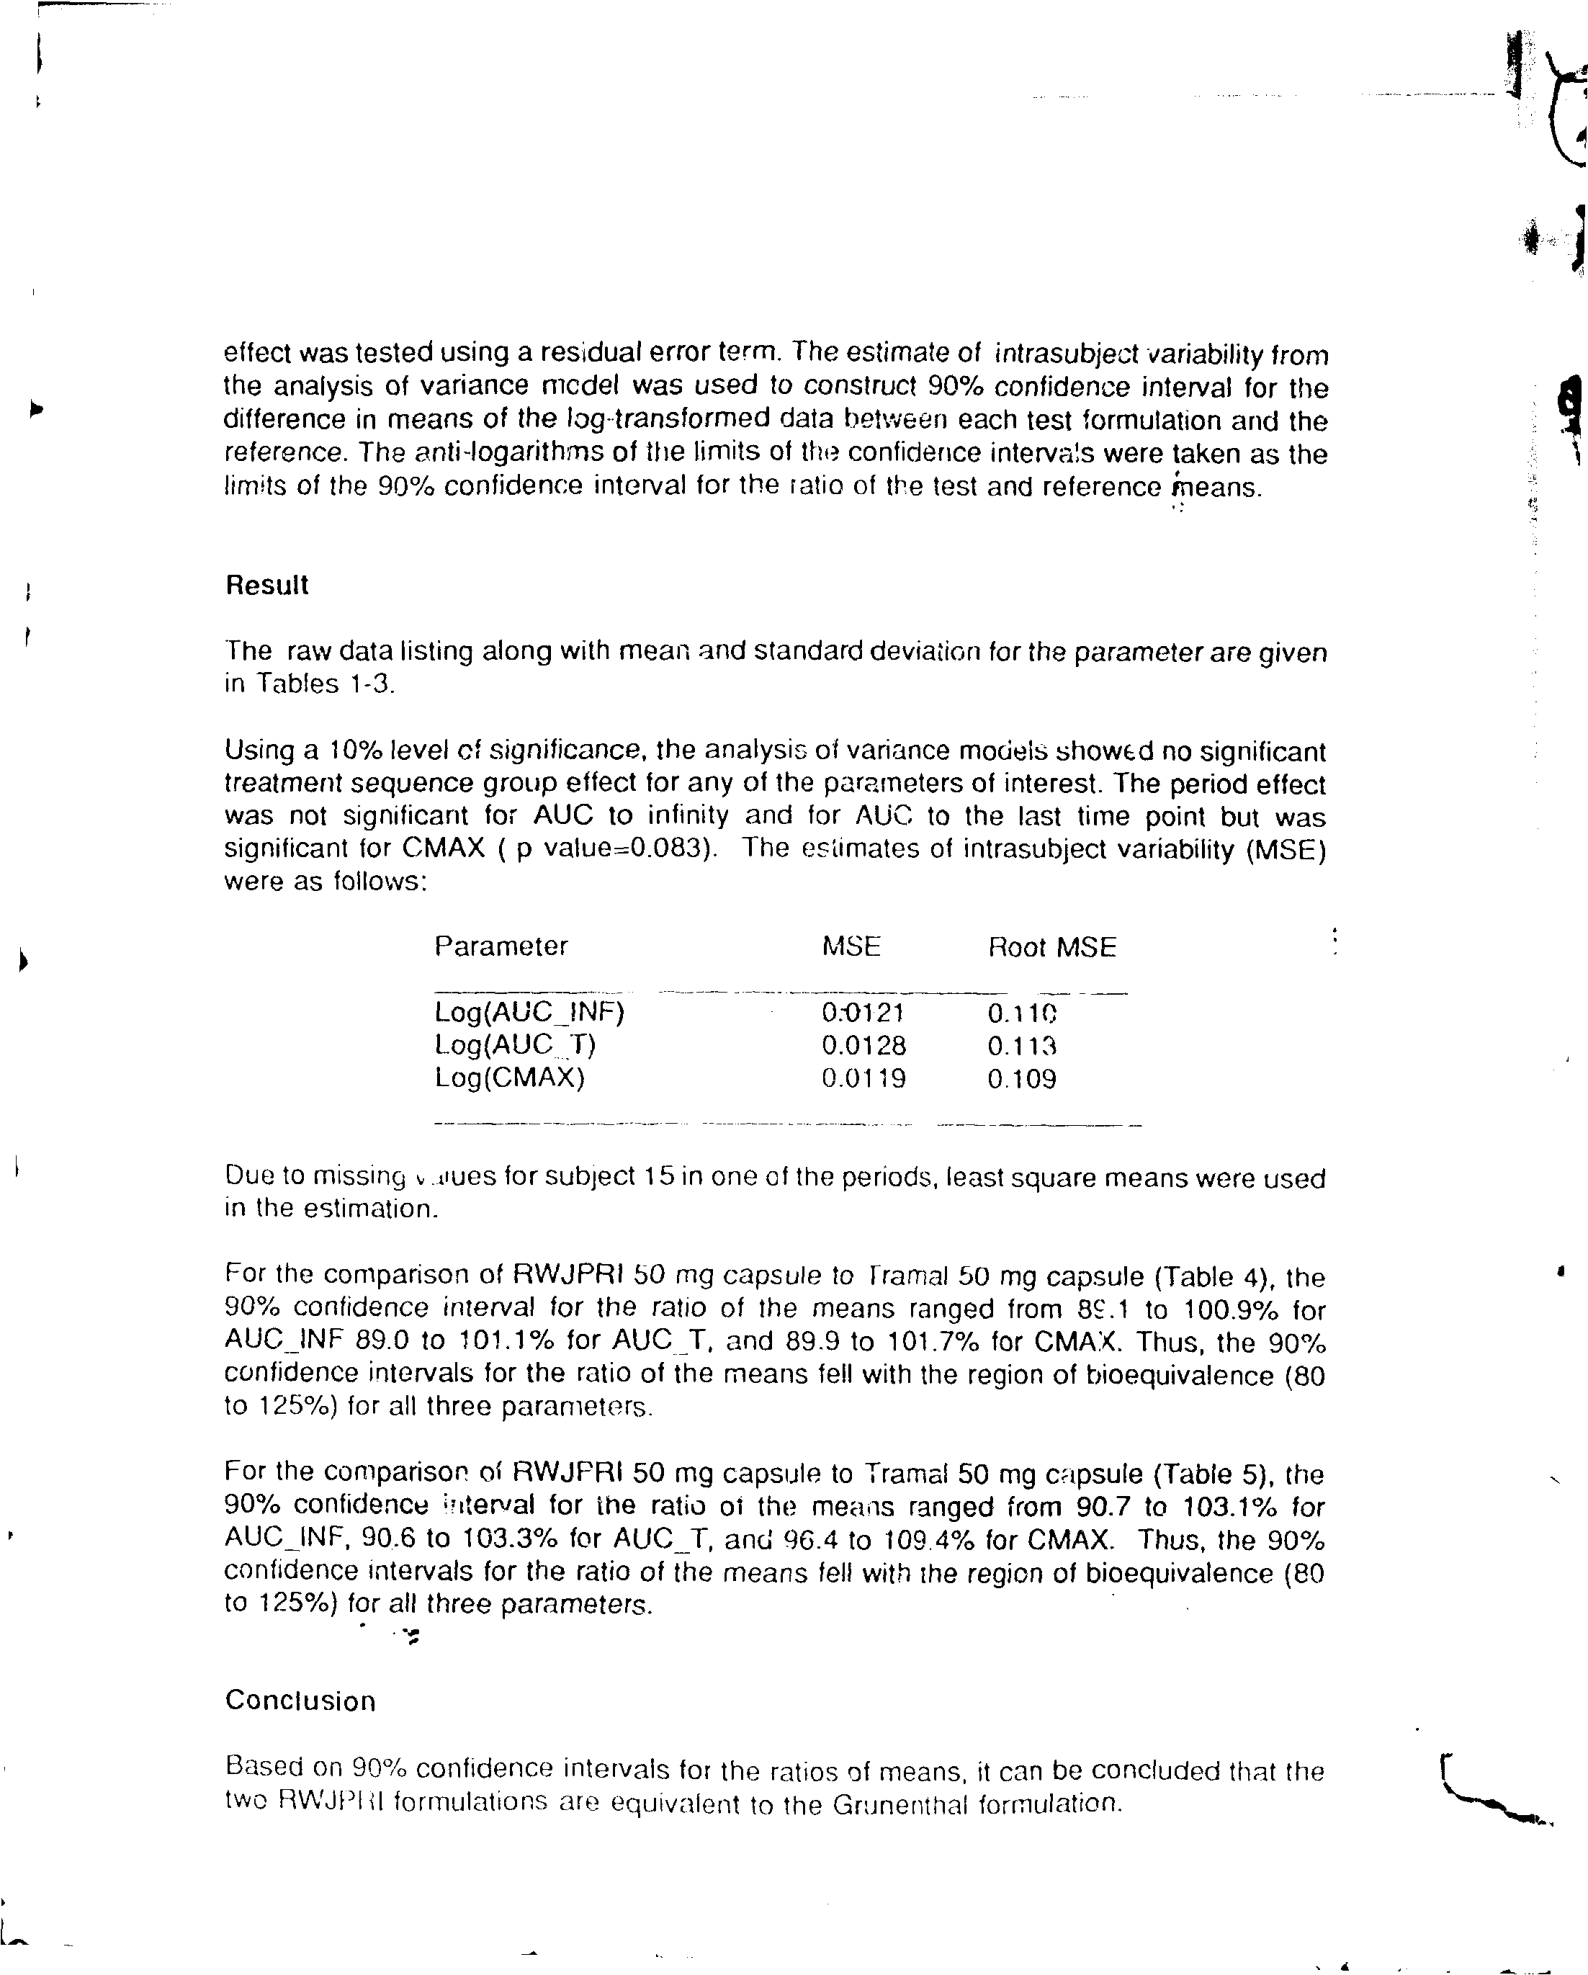nolines: (429, 930, 1129, 1095)
